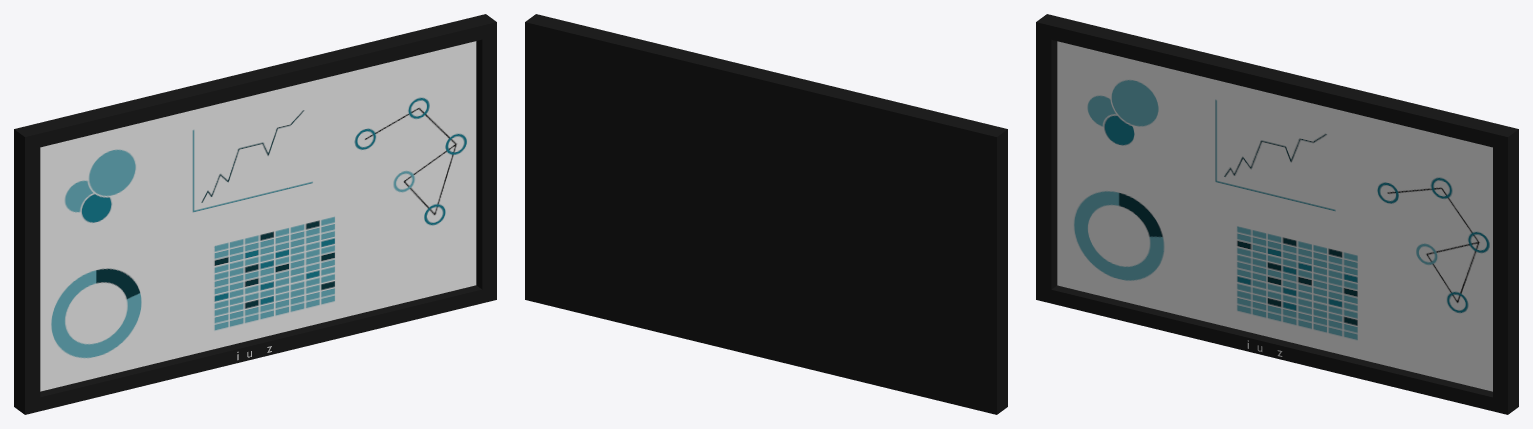
File: visPoster.gltf
3 views of the same model, side by side, from view 1: azimuth 30°, elevation 25°; view 2: azimuth 150°, elevation 25°; view 3: azimuth 330°, elevation 25° (orthographic).
Parts seen in each view (by area): view 1: Cube.004; view 2: Cube.004; view 3: Cube.004.
Part boxes in pixels (box(x1,y1,x2,y2)): Cube.004: box(14, 14, 496, 414); Cube.004: box(525, 14, 1007, 414); Cube.004: box(1036, 14, 1518, 414).
Bounding box in the file's own units: 2.47 × 1.39 × 0.103.
Materials: 2 (1 with a texture image).
